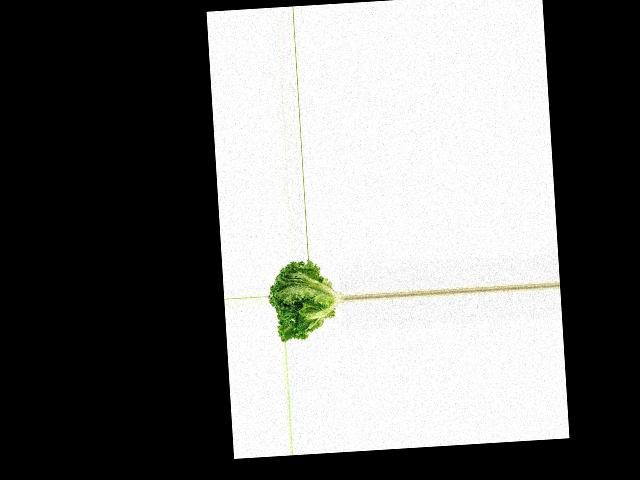lettuce: (267, 258, 346, 342)
